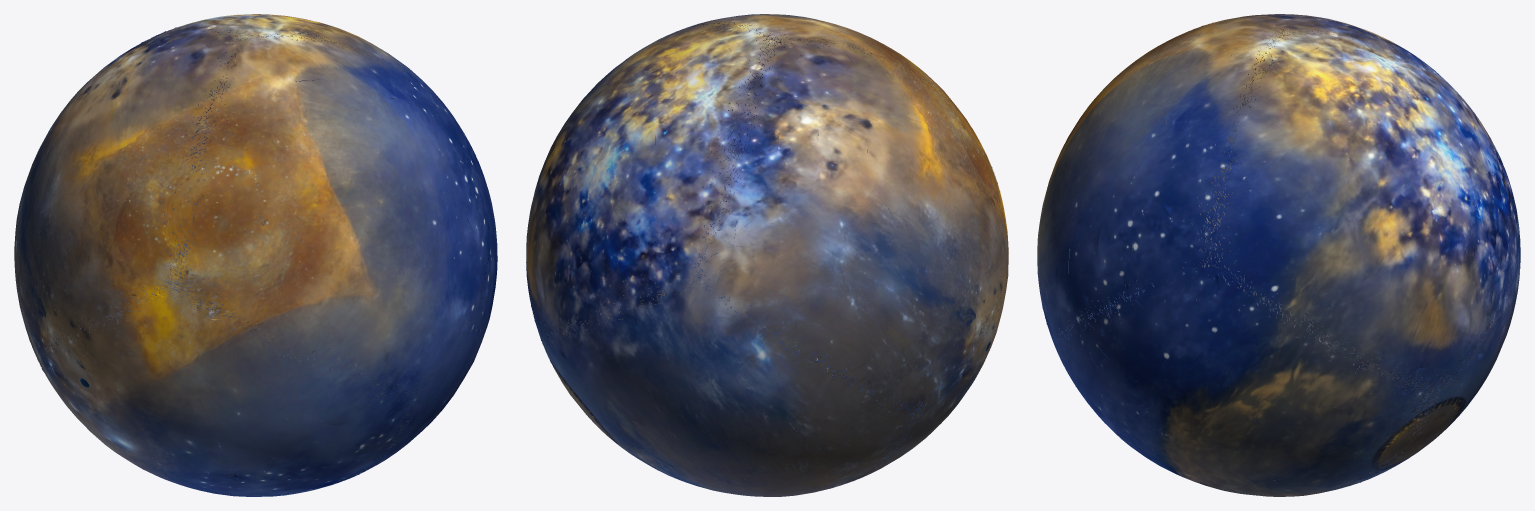
File: Merucry(position).glb
3 renders of one model, left to right at view 1: azimuth 30°, elevation 25°; view 2: azimuth 150°, elevation 25°; view 3: azimuth 270°, elevation 25°, orthographic.
Parts seen in each view (by area): view 1: Mesh_0; view 2: Mesh_0; view 3: Mesh_0.
Boxes of the visible parts, x1,y1,x2,y2 form: Mesh_0: (14,14,497,496); Mesh_0: (526,14,1008,496); Mesh_0: (1037,14,1520,496).
Bounding box in the file's own units: 2.01 × 2.01 × 2.
Materials: 1 (1 with a texture image).
